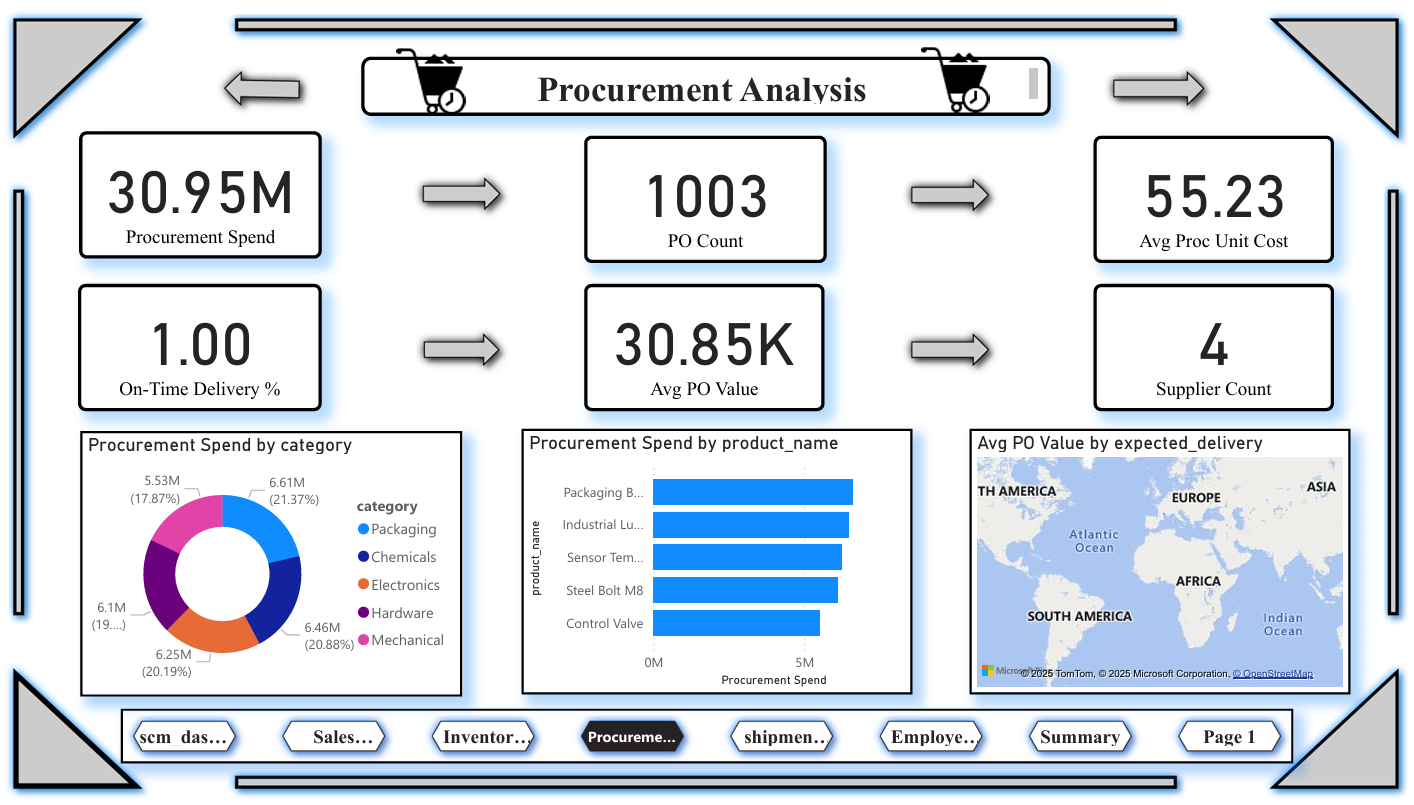

What the dashboard file says about the page in this screenshot:
{"tool":"powerbi","page":{"name":"Procurement Analysis","canvas":[1280,720],"ordinal":3},"visuals":[{"type":"textbox","box":[326,44,628,54],"z":0},{"type":"shape","box":[202,0,876,30],"z":1000},{"type":"shape","box":[1252,156,28,406],"z":2000},{"type":"shape","box":[202,690,876,30],"z":3000},{"type":"shape","box":[0,592,136,128],"z":4000},{"type":"shape","box":[1144,592,136,128],"z":5000},{"type":"shape","box":[1144,0,136,128],"z":6000},{"type":"shape","box":[0,0,136,128],"z":7000},{"type":"shape","box":[0,156,28,406],"z":8000},{"type":"shape","box":[817.7,286.6,89.1,48.6],"z":9000},{"type":"shape","box":[374,286.6,87.4,48.6],"z":10000},{"type":"shape","box":[817.7,145.7,89.1,48.6],"z":11000},{"type":"pageNavigator","box":[106.7,638.3,1068.3,50],"z":12000},{"type":"card","fields":{"Values":["dim_customer.Procurement Spend"]},"box":[69.5,112.3,221,115.8],"z":13000},{"type":"card","fields":{"Values":["dim_customer.On-Time Delivery %"]},"box":[67.7,251.3,222.7,115.8],"z":14000},{"type":"card","fields":{"Values":["dim_customer.Avg PO Value"]},"box":[529.2,251.3,219.2,115.8],"z":15000},{"type":"card","fields":{"Values":["dim_customer.PO Count"]},"box":[529.2,115.8,221,115.8],"z":16000},{"type":"card","fields":{"Values":["dim_customer.Avg Proc Unit Cost"]},"box":[992.5,115.8,219.2,115.8],"z":17000},{"type":"card","fields":{"Values":["dim_customer.Supplier Count"]},"box":[992.5,251.3,219.2,115.8],"z":18000},{"type":"donutChart","fields":{"Y":["dim_customer.Procurement Spend"],"Category":["dim_product.category"]},"box":[70,385,348.3,241.7],"z":19000},{"type":"barChart","fields":{"Y":["dim_customer.Procurement Spend"],"Category":["dim_product.product_name"]},"box":[471.7,383.3,356.7,241.7],"z":20000},{"type":"filledMap","fields":{"Category":["fact_procurement.expected_delivery","dim_warehouse.city"]},"box":[880,383.3,346.7,241.7],"z":21000},{"type":"shape","box":[190.7,48.1,89.1,49.9],"z":22000},{"type":"shape","box":[373.3,145,88.3,48.3],"z":23000},{"type":"shape","box":[1001.7,48.3,101.7,50],"z":24000},{"type":"image","box":[349.8,29.1,79.3,72.9],"z":25000},{"type":"image","box":[827.4,27.5,79.3,72.9],"z":26000}]}

Visuals, with their boxes in screenshot pixels (x1, y1, x2, y2), scaled from the page's 1280x720 canvas onto the 1414x805 screenshot:
textbox: 360:49:1054:110
shape: 223:0:1191:34
shape: 1383:174:1413:628
shape: 223:771:1191:804
shape: 0:662:150:804
shape: 1264:662:1413:804
shape: 1264:0:1413:143
shape: 0:0:150:143
shape: 0:174:31:628
shape: 903:320:1002:375
shape: 413:320:510:375
shape: 903:163:1002:217
pageNavigator: 118:714:1298:770
card - dim_customer.Procurement Spend: 77:126:321:255
card - dim_customer.On-Time Delivery %: 75:281:321:410
card - dim_customer.Avg PO Value: 585:281:827:410
card - dim_customer.PO Count: 585:129:829:259
card - dim_customer.Avg Proc Unit Cost: 1096:129:1339:259
card - dim_customer.Supplier Count: 1096:281:1339:410
donutChart - dim_customer.Procurement Spend x dim_product.category: 77:430:462:701
barChart - dim_customer.Procurement Spend x dim_product.product_name: 521:429:915:699
filledMap - fact_procurement.expected_delivery x dim_warehouse.city: 972:429:1355:699
shape: 211:54:309:110
shape: 412:162:510:216
shape: 1107:54:1219:110
image: 386:33:474:114
image: 914:31:1002:112
